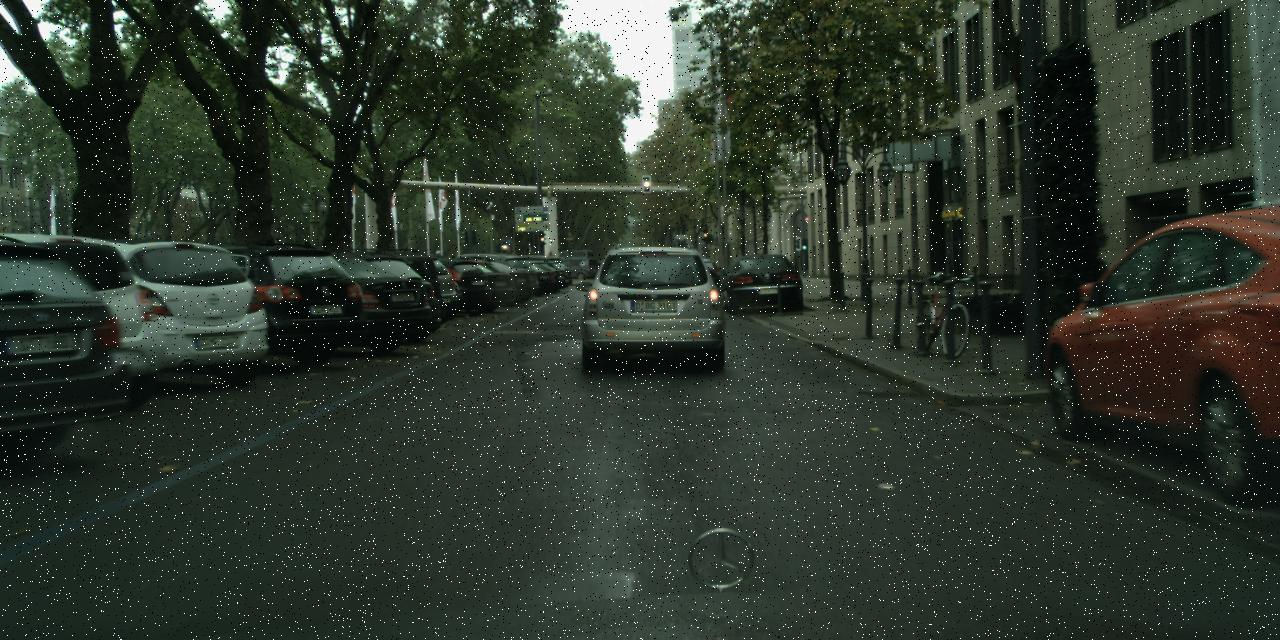ped: (546, 251, 559, 282)
